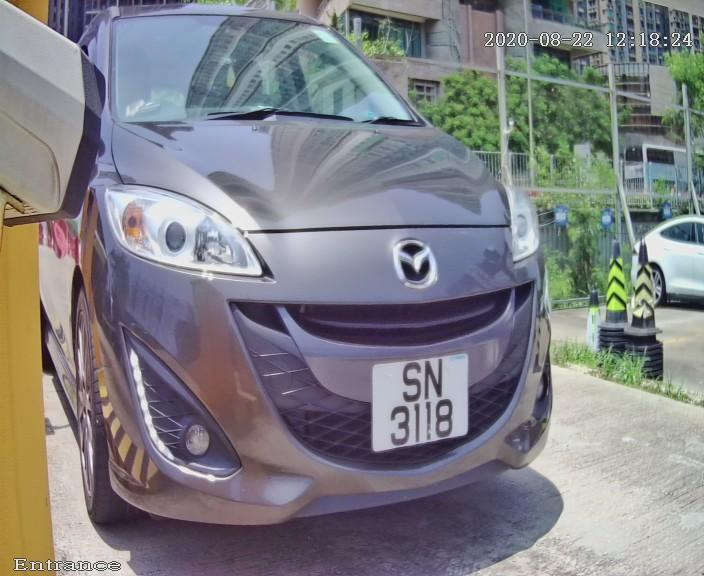Car: (32, 1, 595, 564)
License Plate: (365, 340, 472, 461)
